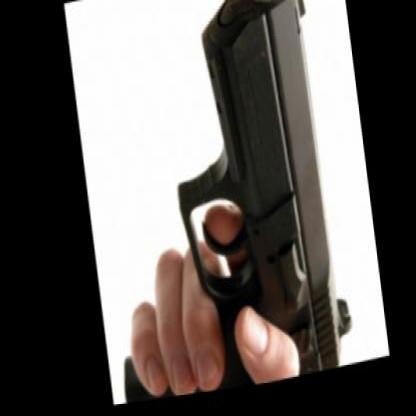pistol: (75, 0, 349, 404)
